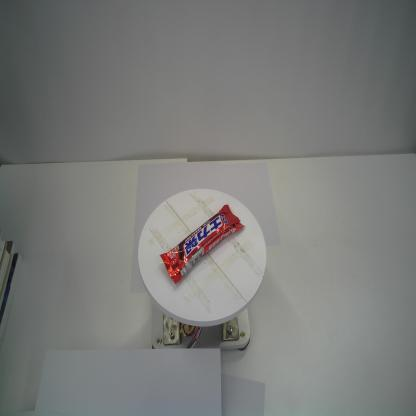Chocolate: (159, 203, 247, 286)
